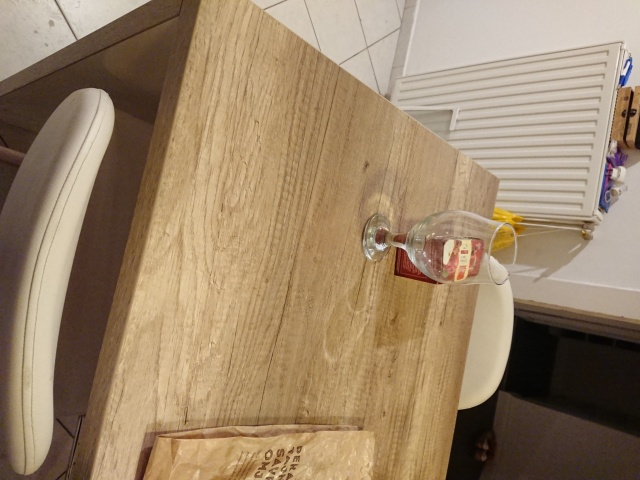Franck Apple Cinnamon Tea 60g: (391, 232, 486, 288)
